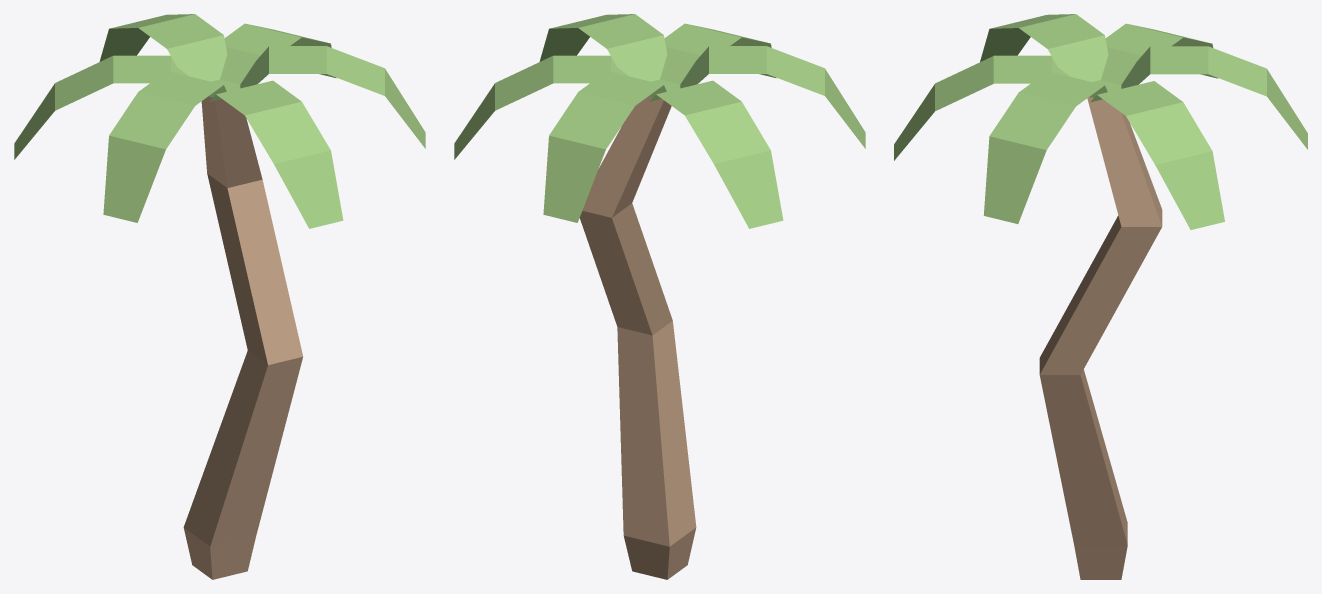
Rendered from tree_palmBend.glb.
The picture shows the model from 3 angles, left to right: view 1: azimuth 30°, elevation 25°; view 2: azimuth 150°, elevation 25°; view 3: azimuth 270°, elevation 25°; orthographic projection.
Visible parts, largest first — view 1: tree_palmBend; view 2: tree_palmBend; view 3: tree_palmBend.
Boxes of the visible parts, left/top/right/bottom form: tree_palmBend: left=14, top=14, right=425, bottom=579; tree_palmBend: left=454, top=14, right=865, bottom=579; tree_palmBend: left=894, top=14, right=1307, bottom=579.
Bounding box in the file's own units: 0.9355 × 1.38 × 1.01.
